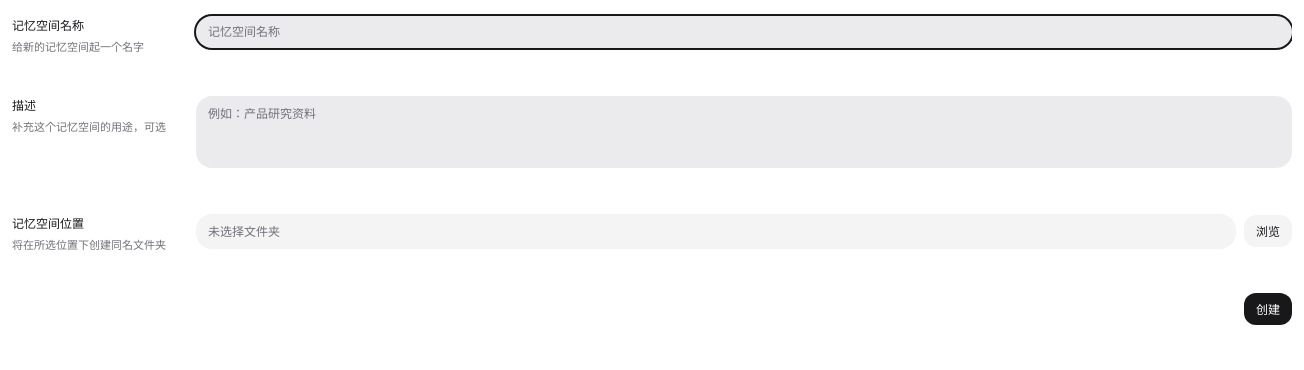
Test case: CreateWorkspaceForm › requires a fresh folder selection after initialize returns an error
The width and height of the screenshot is (1304, 370).
Step 1. Type "Daily memory" into the field labelled "记忆空间名称" → (744, 32), box [196,16,1292,48]
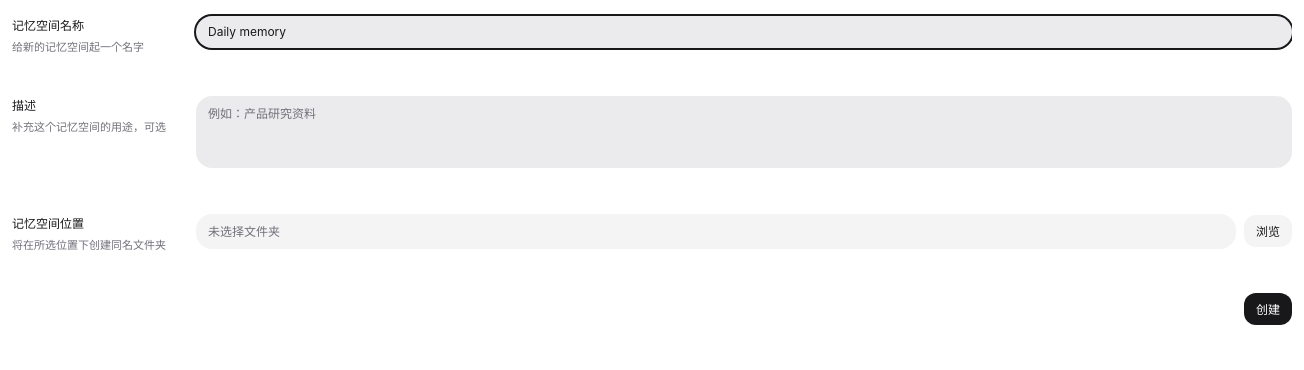
Step 2. Click the button "浏览" → (1268, 231), box [1244,215,1292,247]
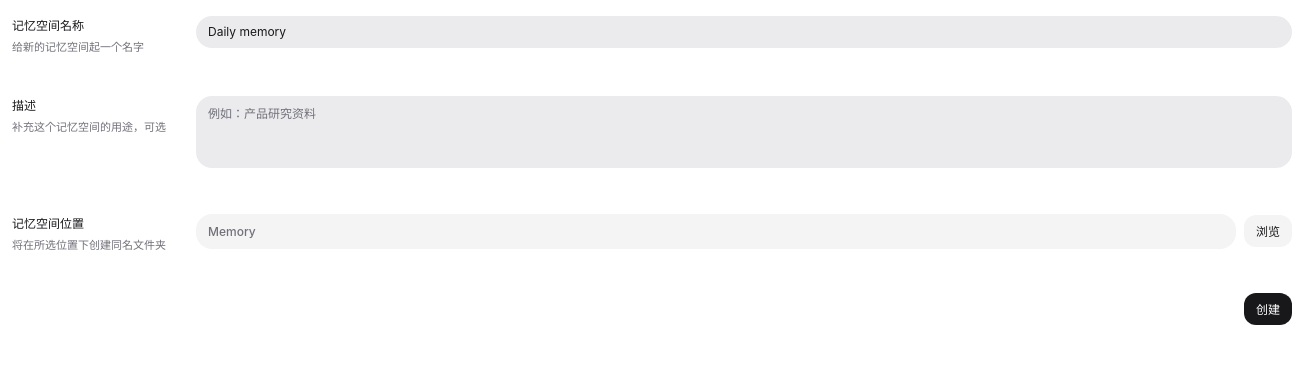
expect the text "Memory" is shown: met, box [196,214,1236,249]
Step 3. Click the button "创建" → (1268, 309), box [1244,293,1292,325]
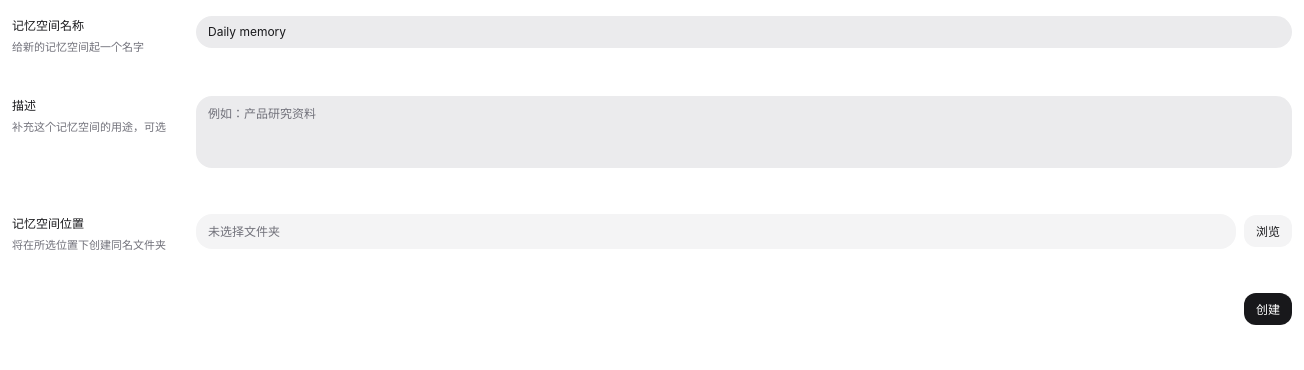
Step 4. Click the button "创建" → (1268, 309), box [1244,293,1292,325]
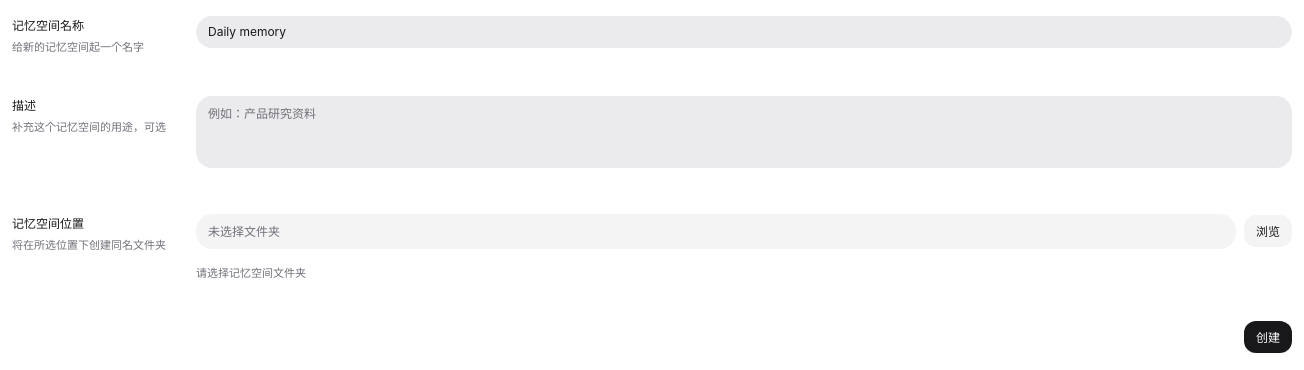
expect the text "请选择记忆空间文件夹" is shown: met, box [196,266,306,280]
